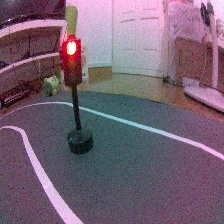red: (56, 32, 98, 155)
